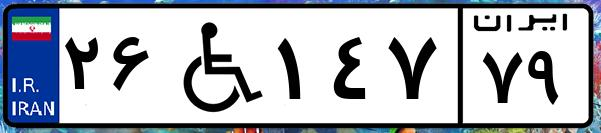1: (270, 28, 330, 110)
2: (57, 26, 110, 100)
4: (330, 28, 385, 110)
6: (110, 28, 158, 98)
7: (385, 28, 445, 110), (475, 38, 525, 113)
9: (525, 38, 570, 115)
ژ (معلولین و جانبازان): (158, 12, 270, 120)
